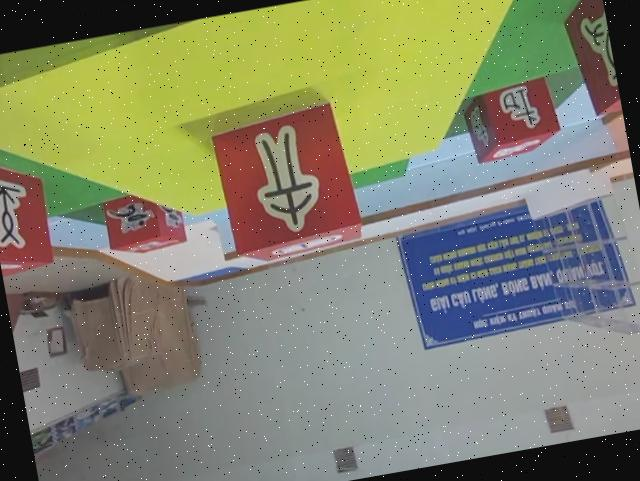R1: (96, 176, 192, 264)
R2 Fake: (208, 95, 367, 271)
R2 Real: (458, 72, 567, 168), (0, 137, 62, 283), (554, 0, 623, 126)
